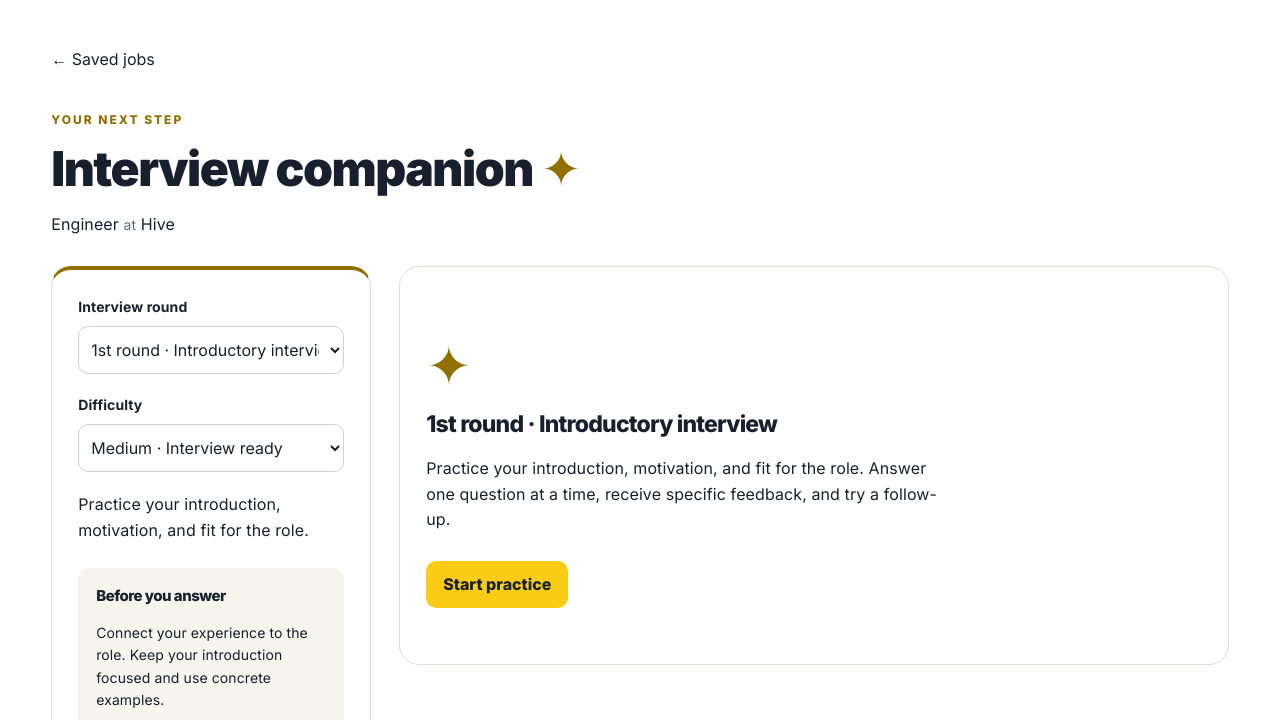
Test case: keeps the transcript editable and only submits after Get feedback is clicked
Click the button "Start practice".
click(497, 585)  # box [426, 561, 568, 608]
(page scrolled)
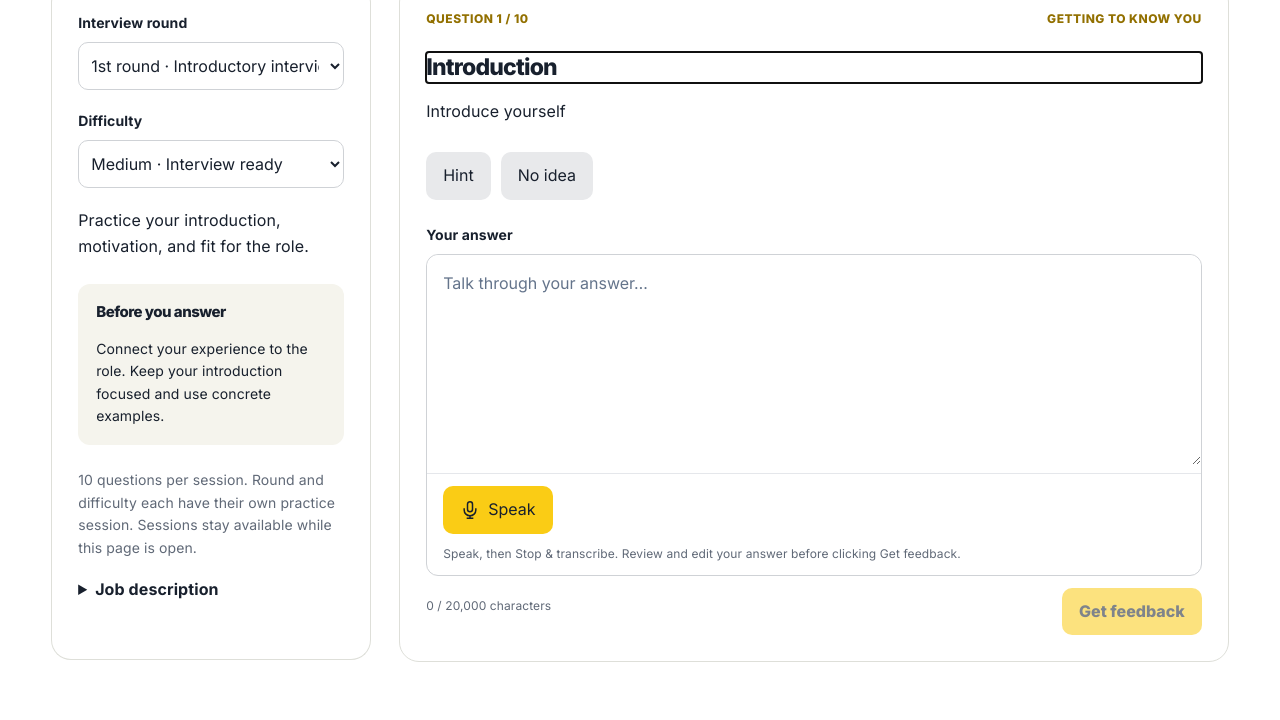
Type "Typed introduction" into the text box labelled "Your answer".
click(814, 360); type("Typed introduction")  # box [427, 255, 1201, 465]
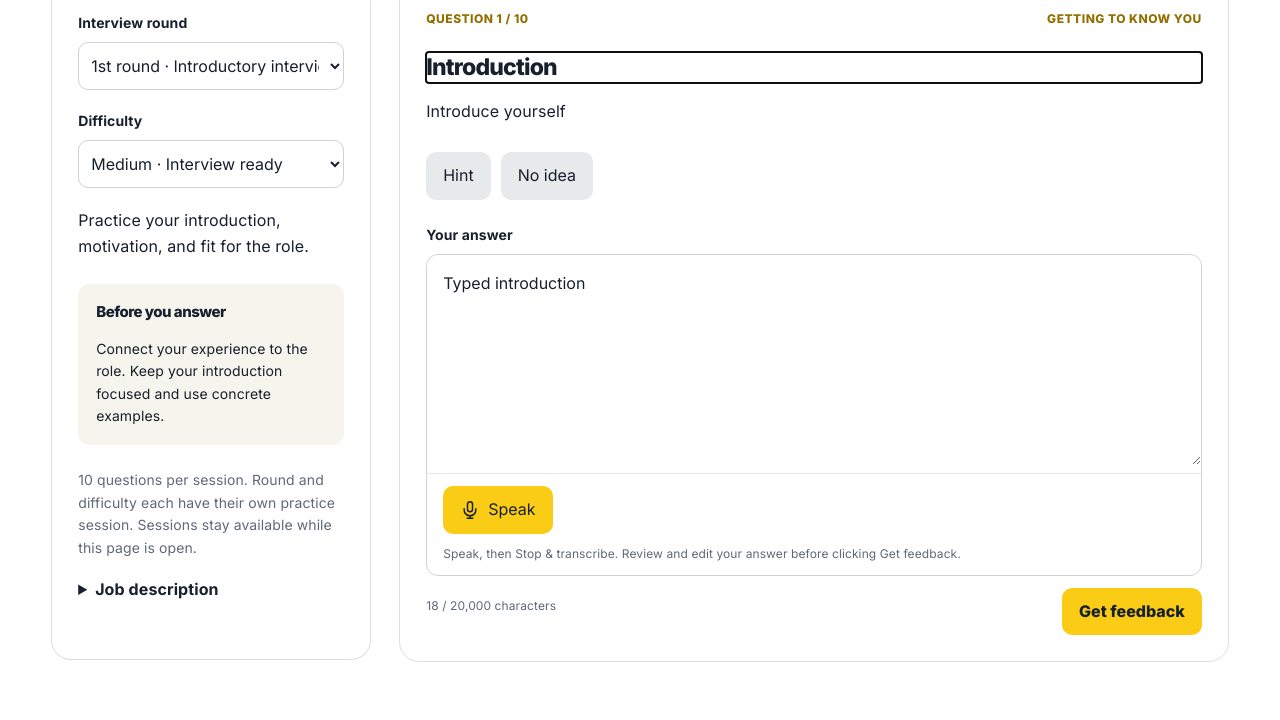
Click the button with aria-label "Record spoken answer".
click(498, 510)  # box [443, 486, 552, 534]
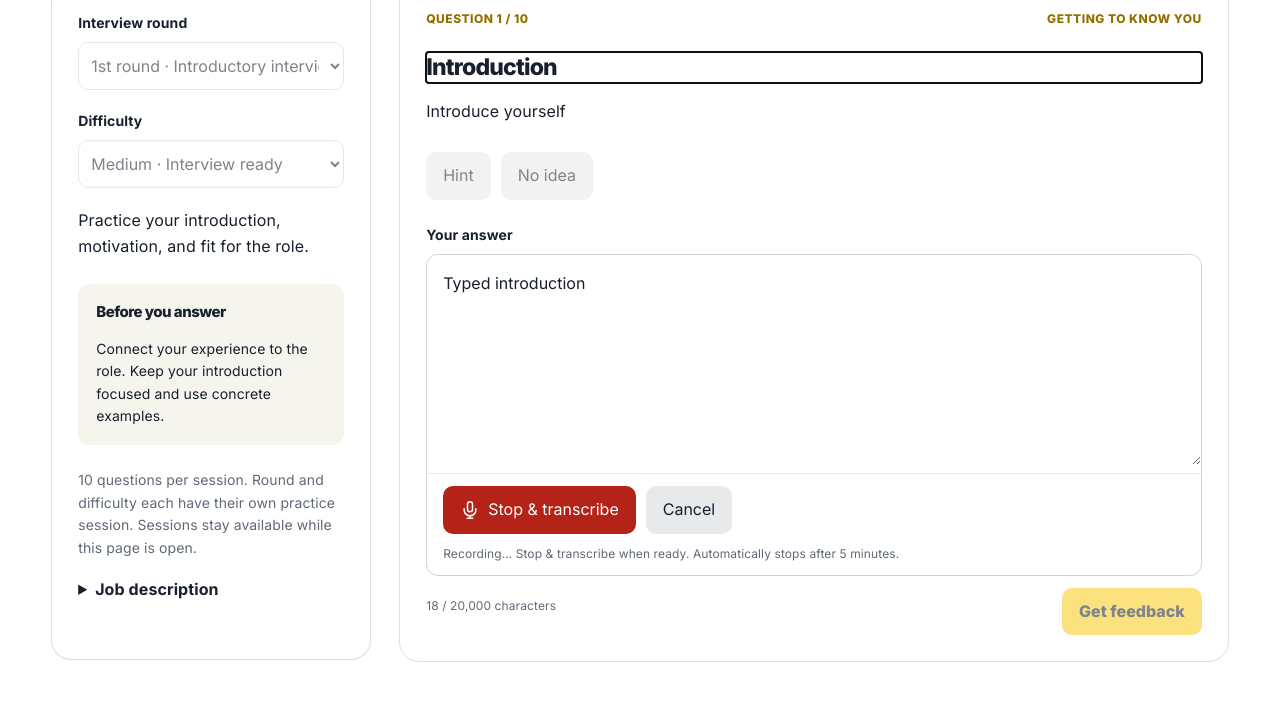
Expected: the button with aria-label "Stop recording and transcribe" is shown
Expected: the dropdown labelled "Interview round" is disabled, [78, 42, 344, 90]
Expected: the button "Get feedback" is disabled, [1062, 588, 1202, 635]
Click the button with aria-label "Stop recording and transcribe".
click(539, 510)  # box [443, 486, 636, 534]
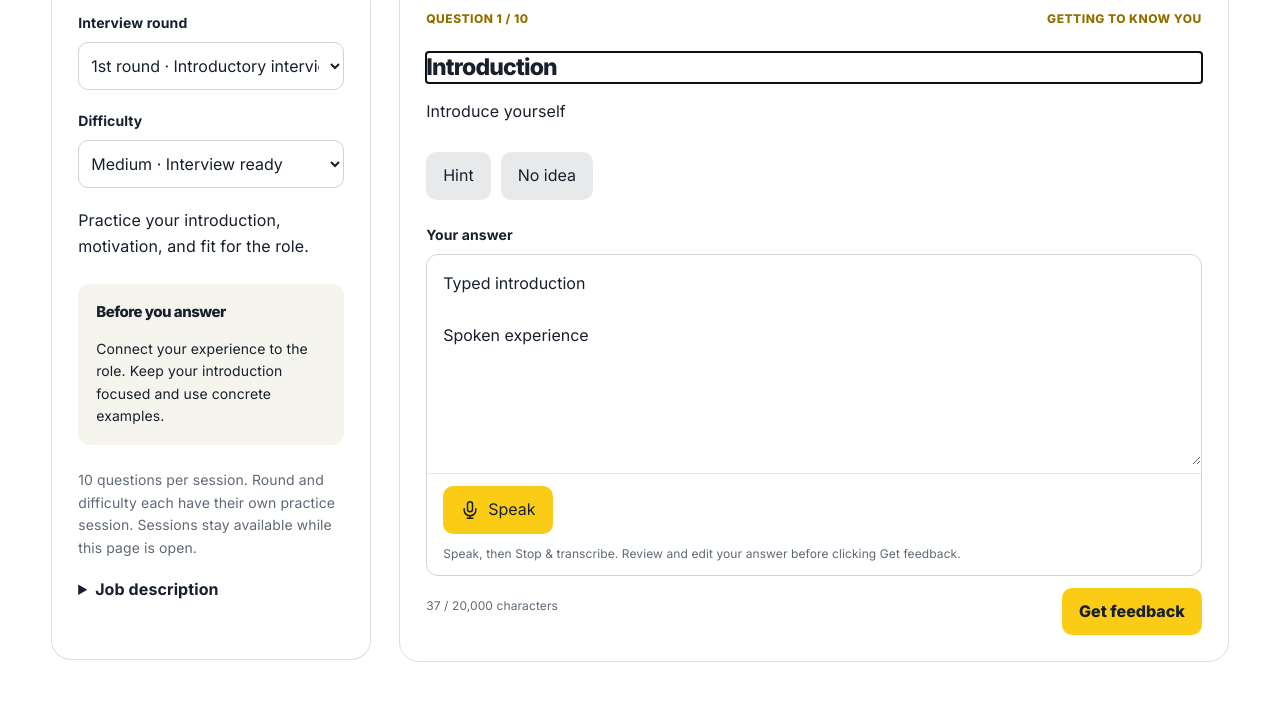
Expected: the text box labelled "Your answer" is enabled
Replace the text in the text box labelled "Your answer" with "My edited response" at {"x": 814, "y": 360}, box [427, 255, 1201, 465]
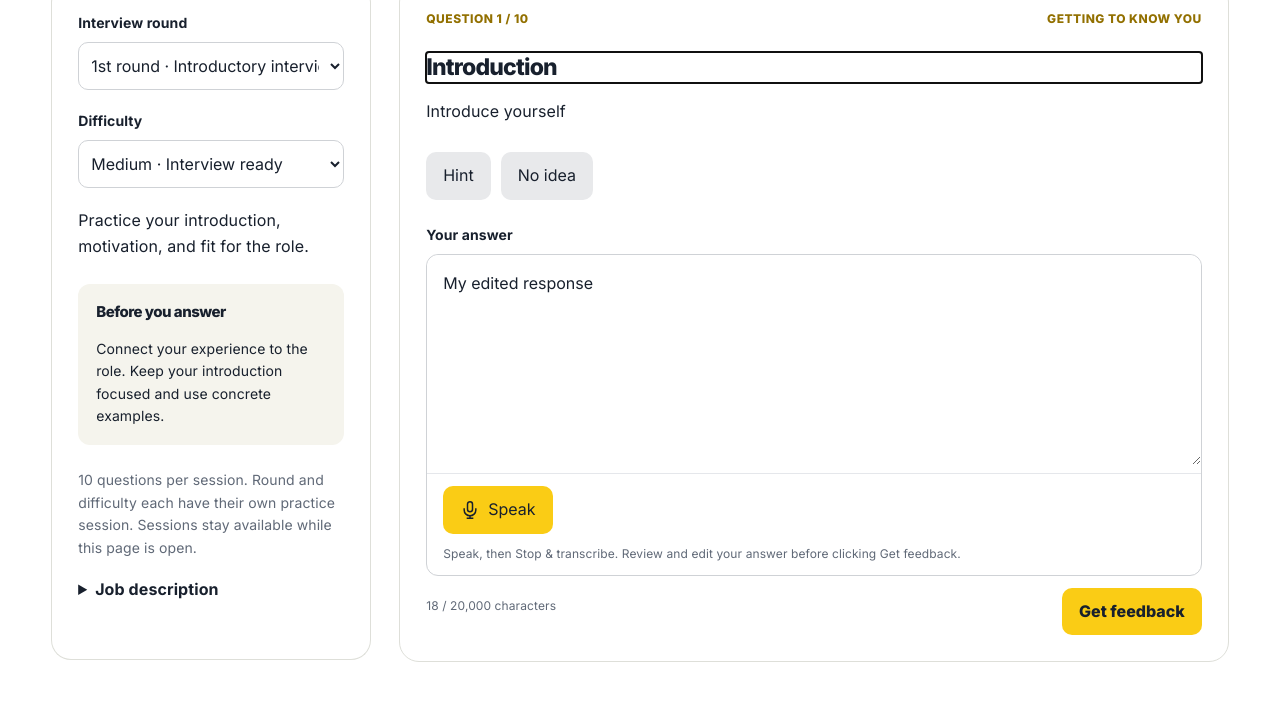
Click the button "Get feedback".
click(1132, 612)  # box [1062, 588, 1202, 635]
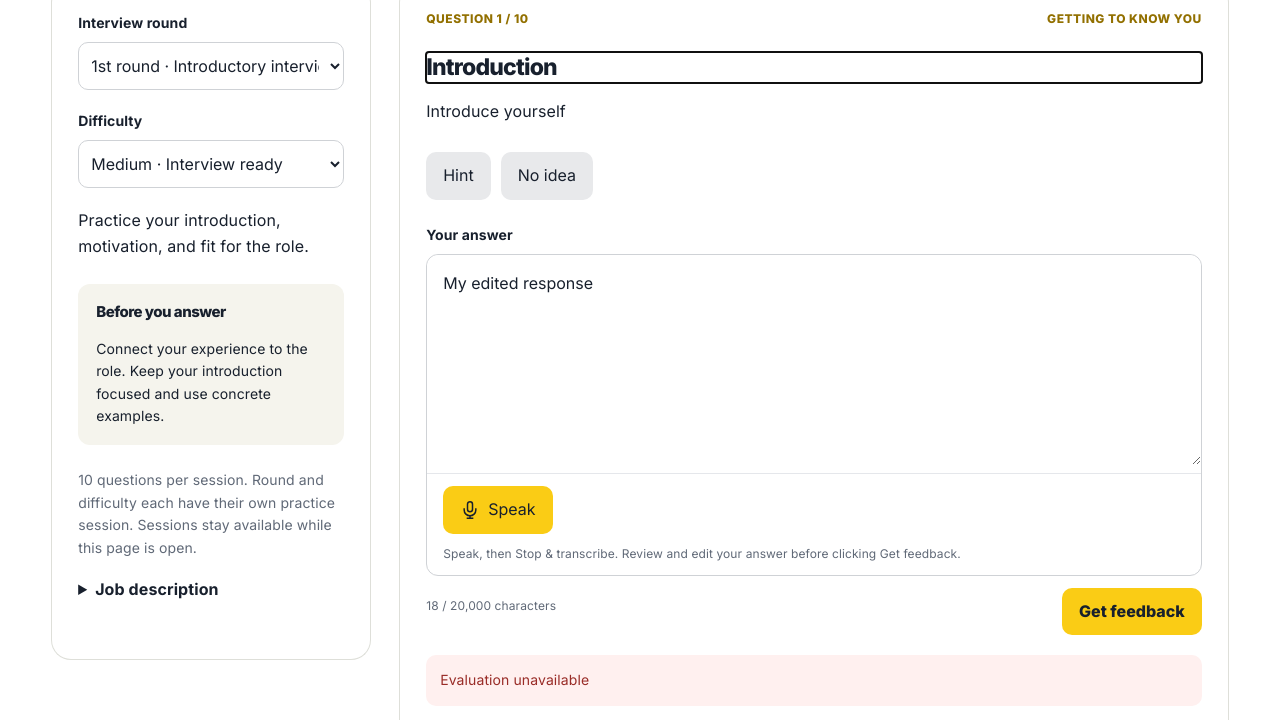
Expected: the text "Evaluation unavailable" is shown, [426, 655, 1202, 706]
